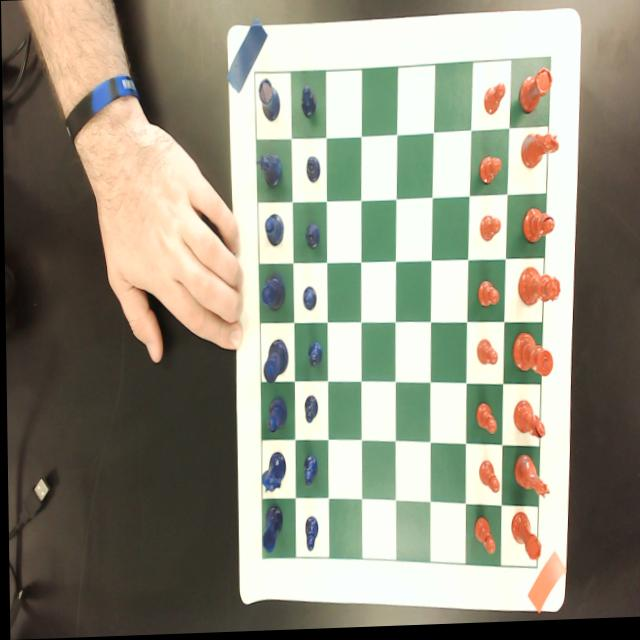B: (265, 397, 286, 434), (263, 214, 283, 249)
K: (261, 340, 287, 385)
N: (259, 451, 284, 496), (254, 152, 281, 189)
P: (302, 517, 317, 554), (301, 455, 316, 490), (301, 396, 317, 427), (300, 87, 315, 120), (300, 285, 315, 315), (305, 157, 319, 186), (304, 224, 319, 251), (306, 343, 320, 370)
Q: (260, 273, 284, 314)
R: (258, 507, 282, 556), (256, 78, 280, 126)
b: (510, 401, 543, 444), (521, 207, 553, 248)
cb: (253, 60, 549, 571)
k: (511, 333, 551, 382)
n: (512, 456, 548, 503), (519, 134, 558, 175)
p: (471, 518, 494, 558), (482, 84, 505, 119), (473, 404, 496, 438), (476, 461, 497, 498), (478, 158, 500, 189), (475, 281, 498, 310), (478, 217, 500, 246), (475, 341, 496, 370)
q: (516, 268, 559, 310)
r: (517, 69, 552, 118), (508, 514, 539, 565)
